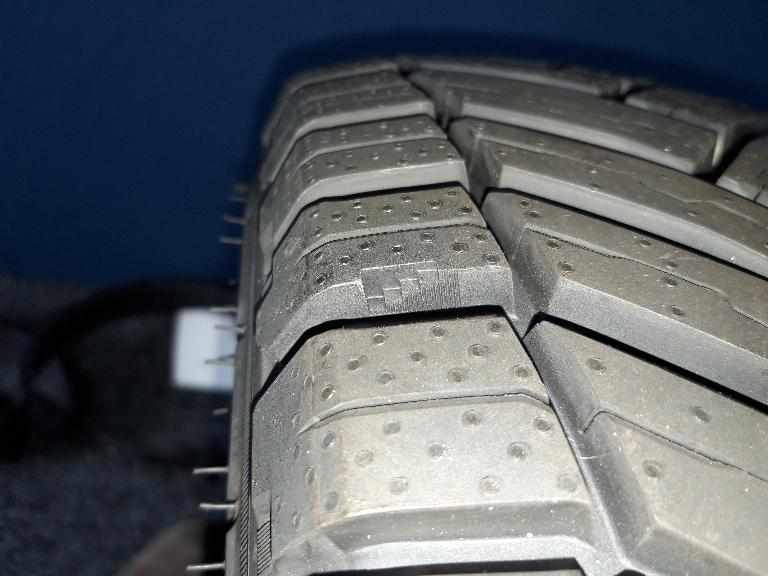temoin:100: (358, 258, 463, 320)
